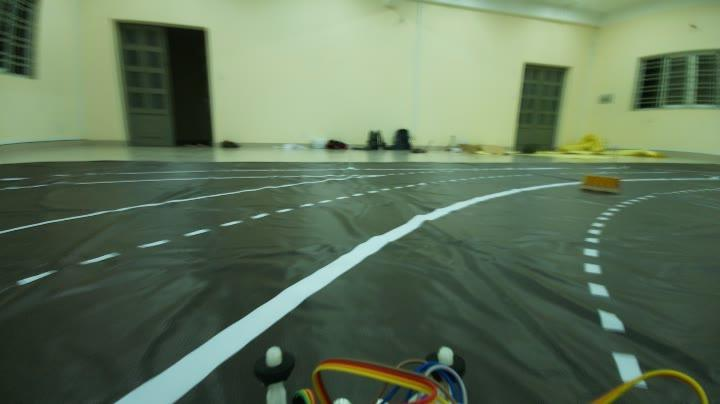roadblock: (580, 169, 626, 199)
